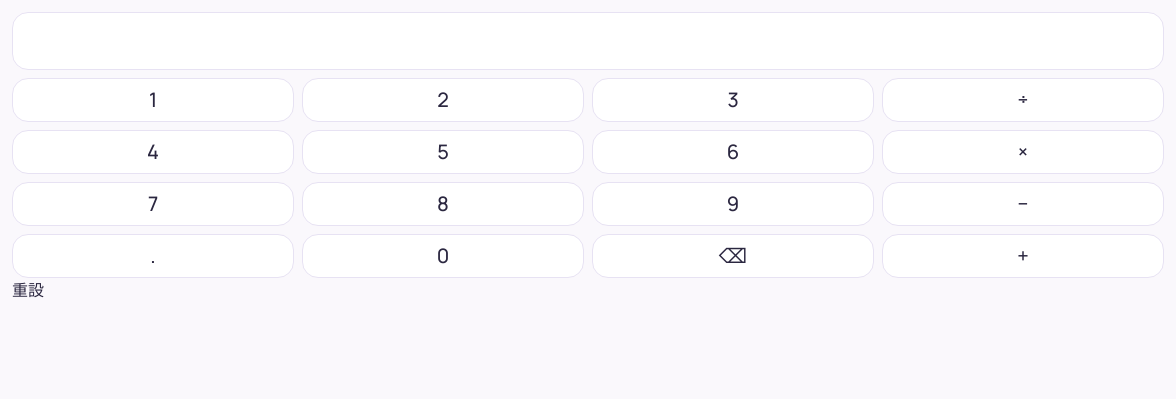
it: NumericKeypad › mode="amount" 計算機 › 算式結尾多一個運算子時，以前面算好的值送出；連按運算子取後者
The image size is (1176, 399).
Click the button named "數字 1". click: click(153, 100)
box: top-left (12, 78), bottom-right (294, 122)
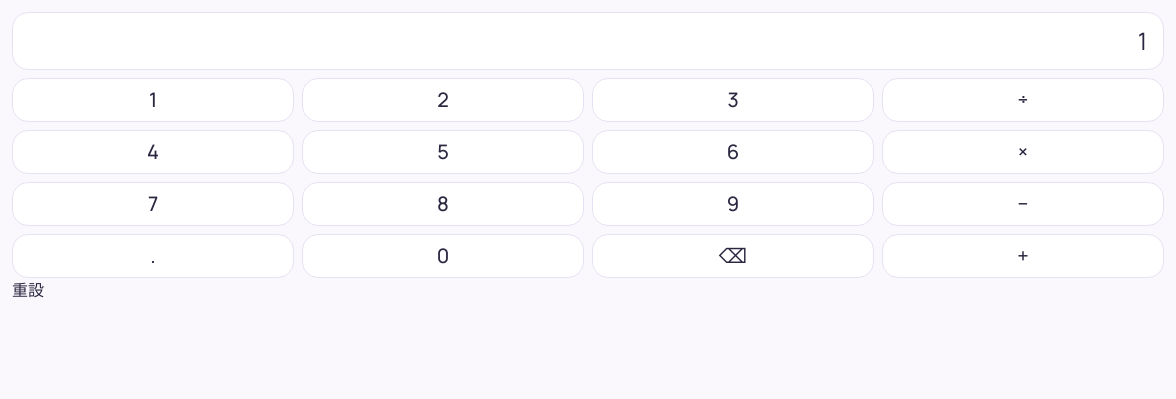
Click the button named "數字 2". click: click(443, 100)
box: top-left (302, 78), bottom-right (584, 122)
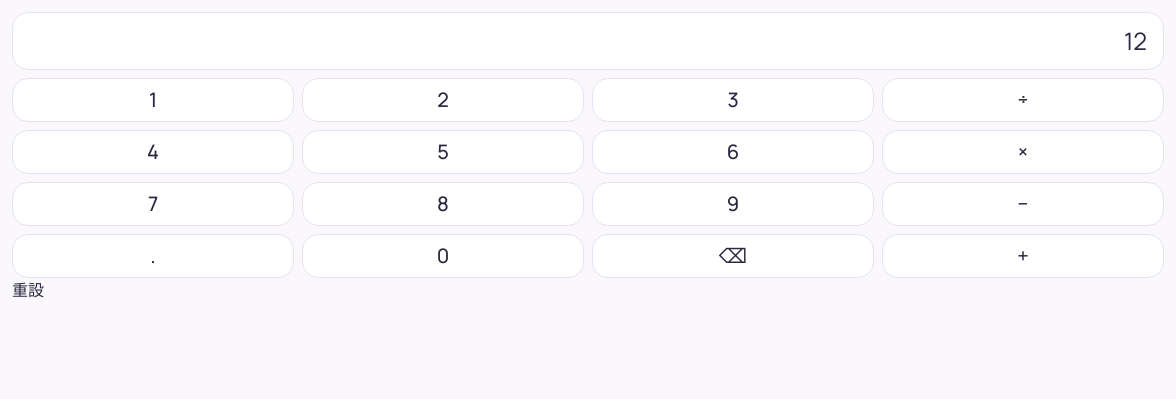
Click the button named "加". click: click(1023, 256)
box: top-left (882, 234), bottom-right (1164, 278)
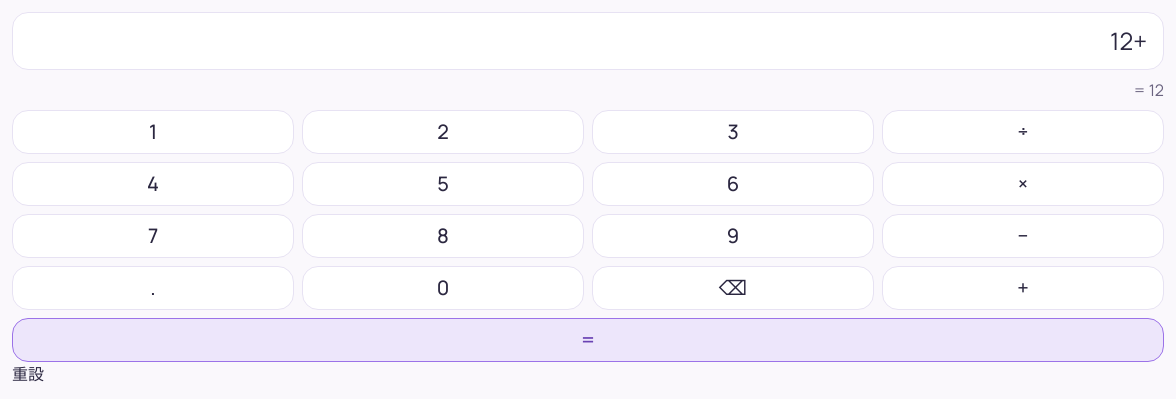
Click the button named "乘". click: click(1023, 184)
box: top-left (882, 162), bottom-right (1164, 206)
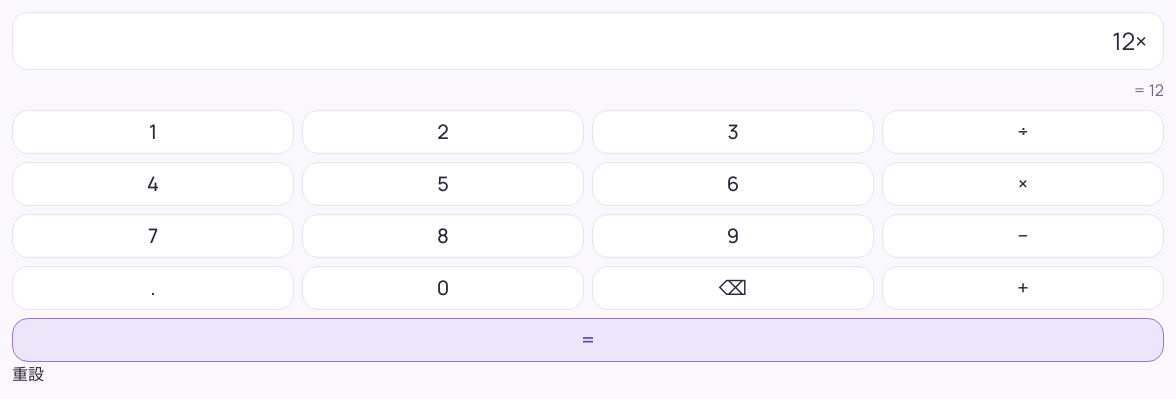
Now the field named "金額" holds "12×", box top-left (12, 12), bottom-right (1164, 70)
